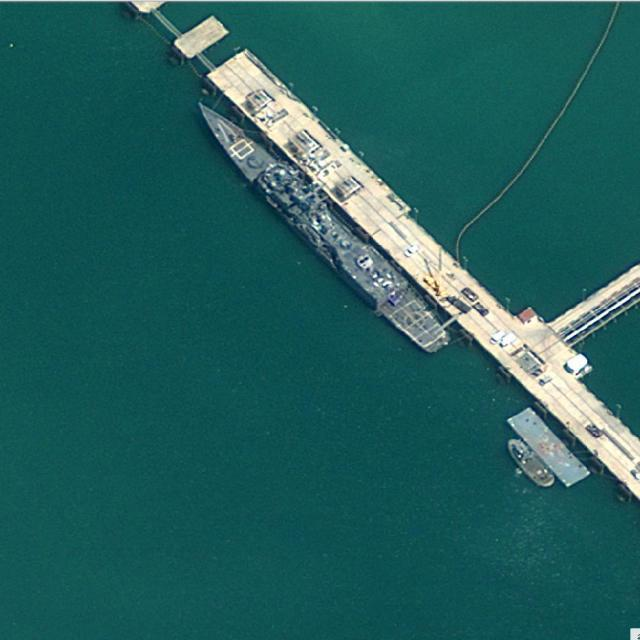Frigate: (186, 88, 454, 361)
Hovercraft: (502, 434, 558, 493)
